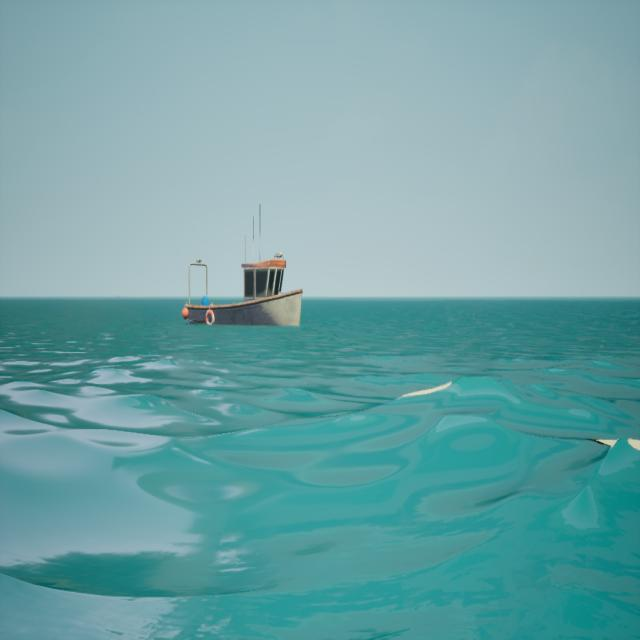ship: (178, 176, 312, 344)
